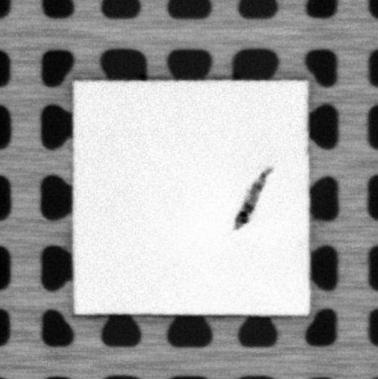DIE_INK: (232, 168, 275, 228)
